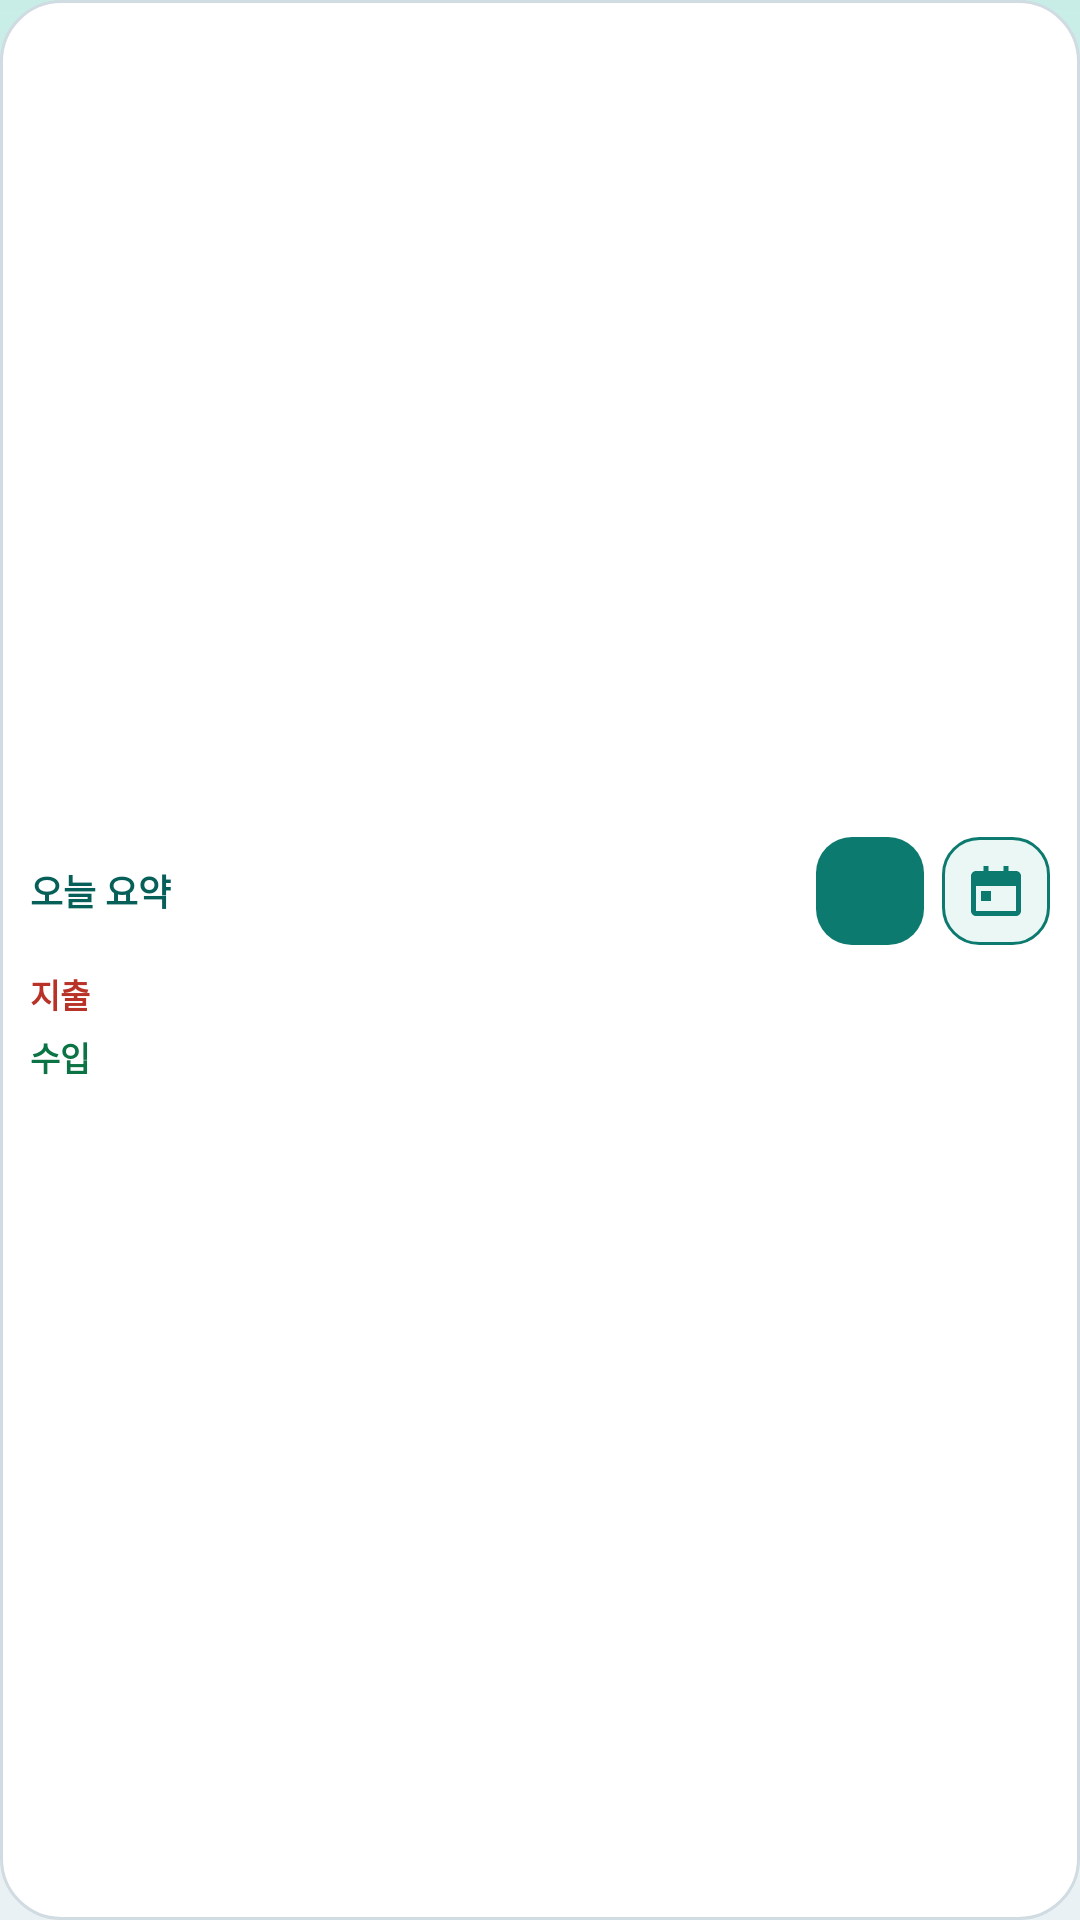

Icon bounding boxes for this 1080w x 1920h phone screenshot, format (x1, y1, x2, y2):
달력: (942, 837, 1050, 945)
